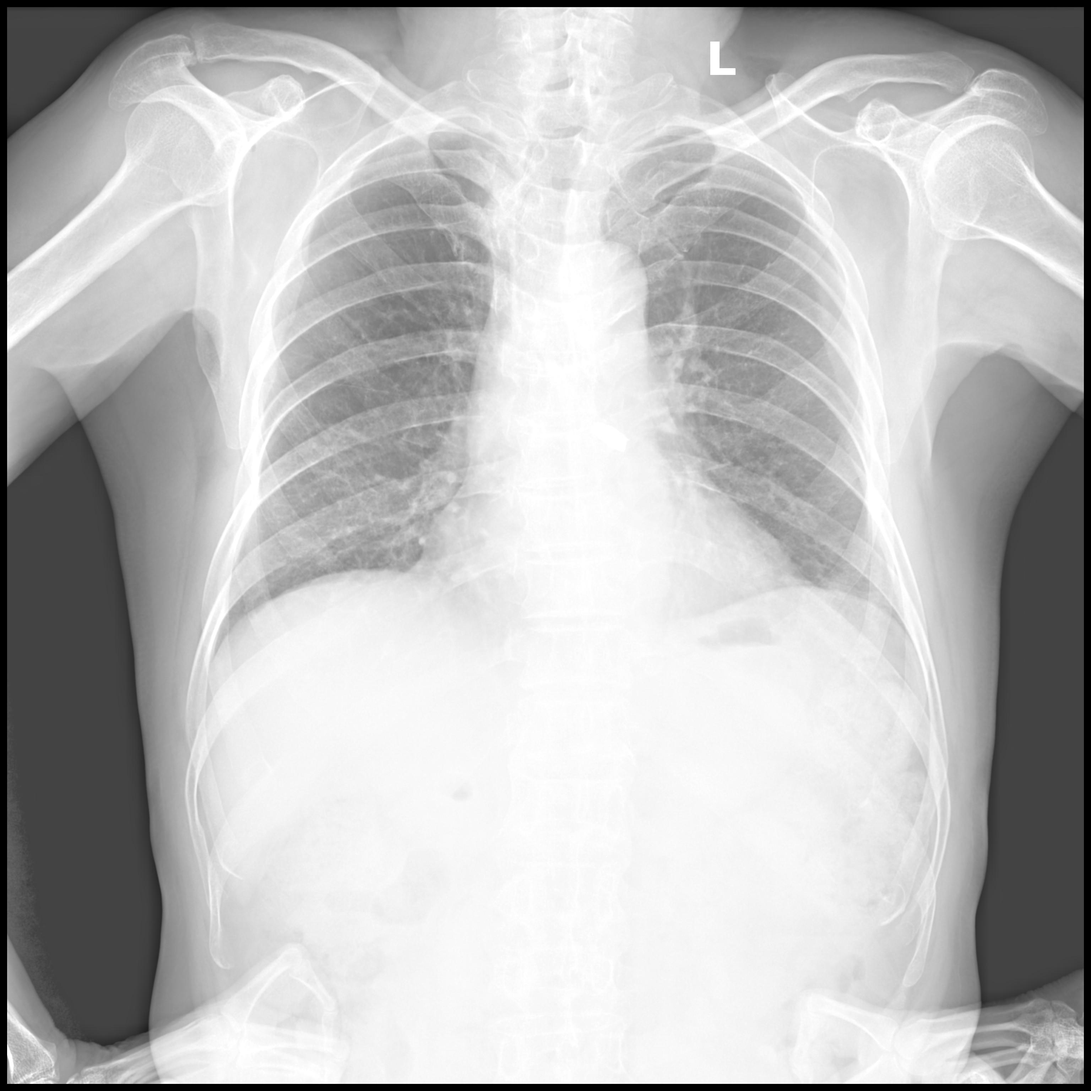Aortic enlargement: (554, 239, 649, 325)
Cardiomegaly: (411, 488, 820, 609)
